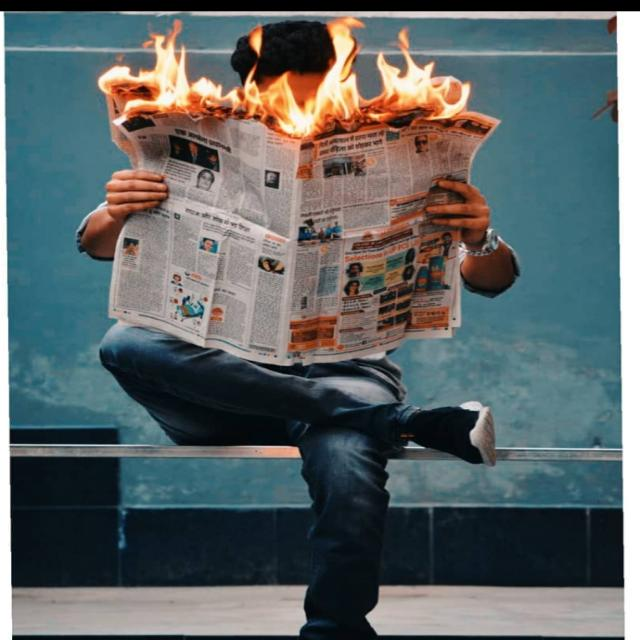fire: (98, 19, 219, 125), (221, 23, 315, 139), (369, 27, 469, 130), (314, 17, 368, 135)
